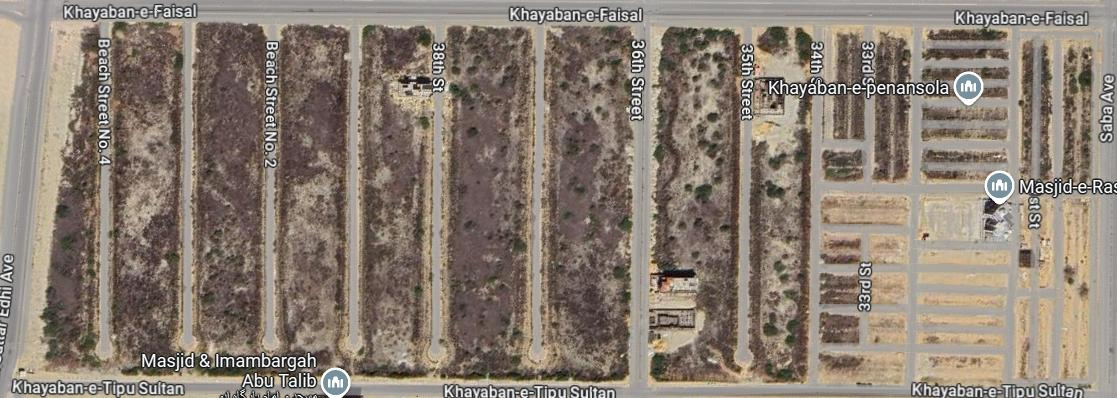Buildings: (441, 23, 535, 384), (543, 27, 633, 387), (650, 27, 740, 381), (18, 17, 98, 373), (192, 23, 266, 378), (109, 18, 182, 370), (278, 25, 348, 380), (359, 26, 430, 375), (751, 27, 812, 384), (918, 195, 1008, 385), (819, 192, 906, 382), (1014, 196, 1092, 381), (921, 27, 1008, 181), (825, 27, 909, 183), (1019, 21, 1094, 187)
